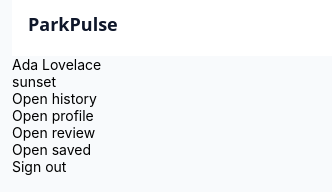
Test: AppNavigator › navigates to the place review screen from the map flow
The width and height of the screenshot is (332, 192).
Click the element with test id "navigator-open-review-button" at (54, 132), box [12, 124, 95, 141]
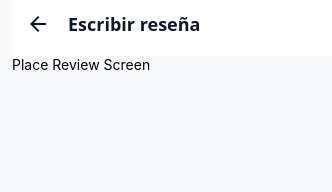
Expected: the text "Place Review Screen" is shown, [12, 56, 150, 73]
